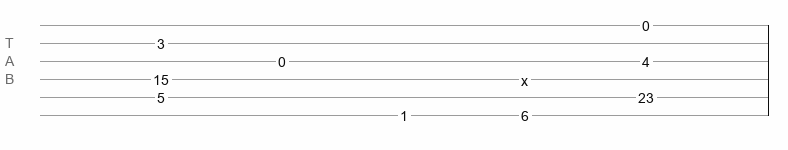0: (278, 54, 286, 64), (642, 18, 650, 28)
1: (400, 108, 408, 118)
15: (153, 72, 169, 82)
23: (638, 90, 654, 100)
3: (157, 36, 165, 46)
4: (642, 54, 650, 64)
5: (157, 90, 165, 100)
6: (521, 108, 529, 118)
x: (521, 73, 528, 81)
